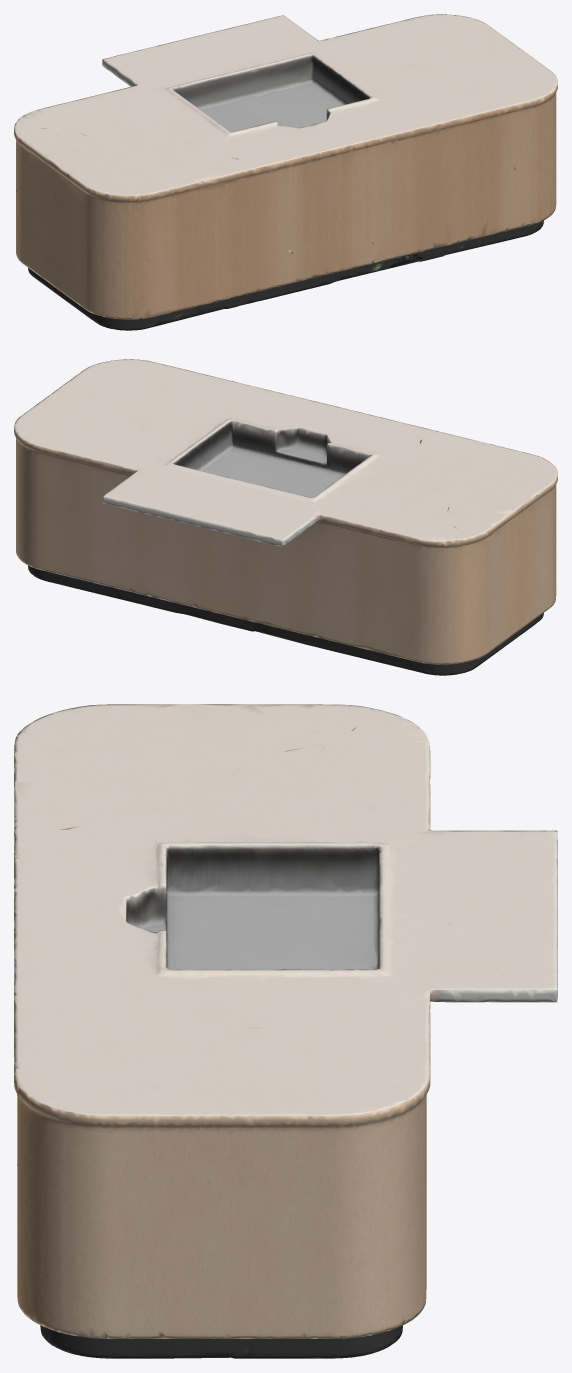
Rendered from meshy-reception-desk.glb.
The picture shows the model from 3 angles, top to bottom: view 1: azimuth 30°, elevation 25°; view 2: azimuth 150°, elevation 25°; view 3: azimuth 270°, elevation 25°; orthographic projection. The views are drawn at different scales.
Bounding box in the file's own units: 1.9 × 0.5522 × 1.06.
1 material, 1 textured.
